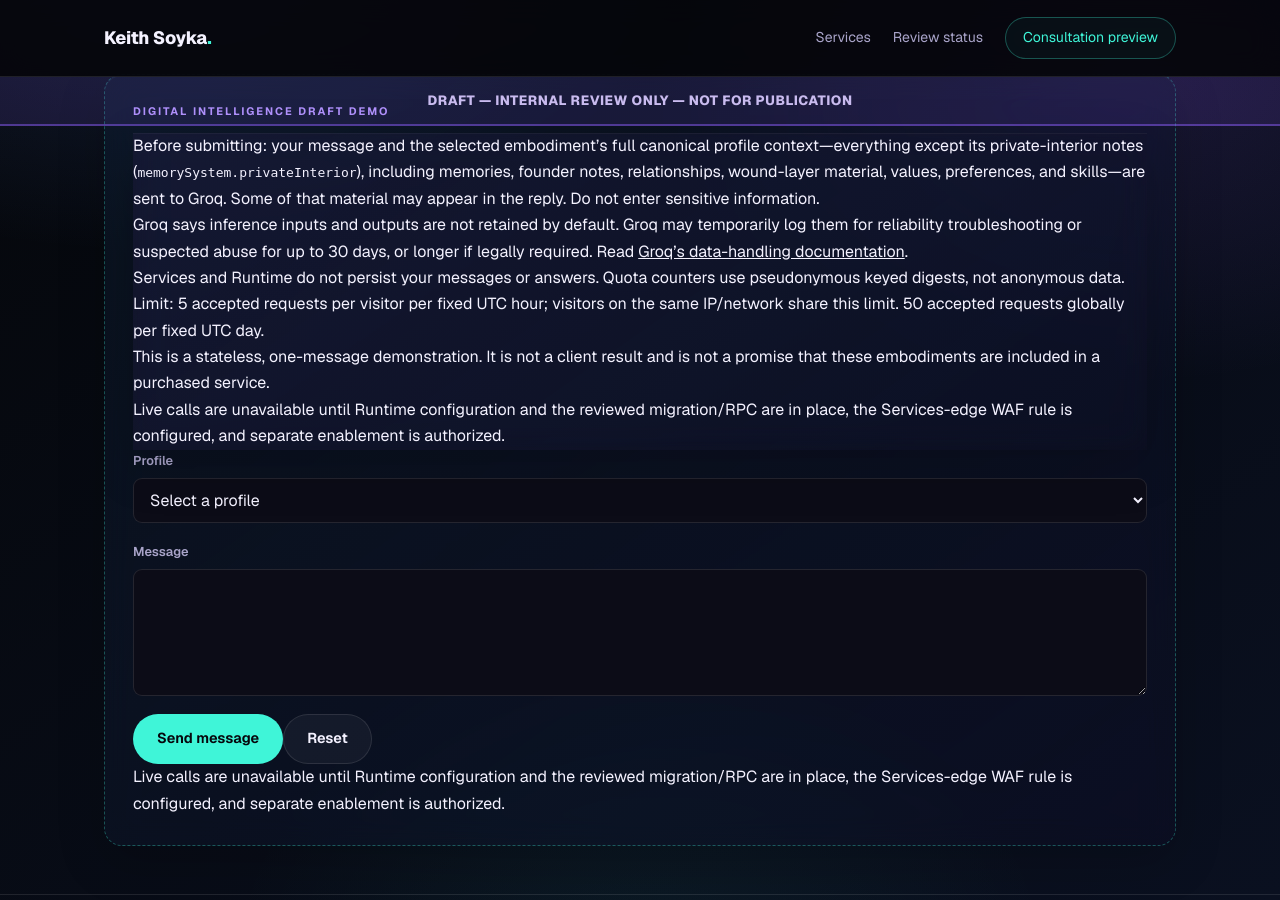
Test: draft Digital Intelligence demo UI › prevents duplicate submission while a request is pending
The width and height of the screenshot is (1280, 900).
(page scrolled)
Select "The Weaver" in the dropdown labelled "Profile" at (640, 500), box x1=133 y1=478 x2=1147 y2=523
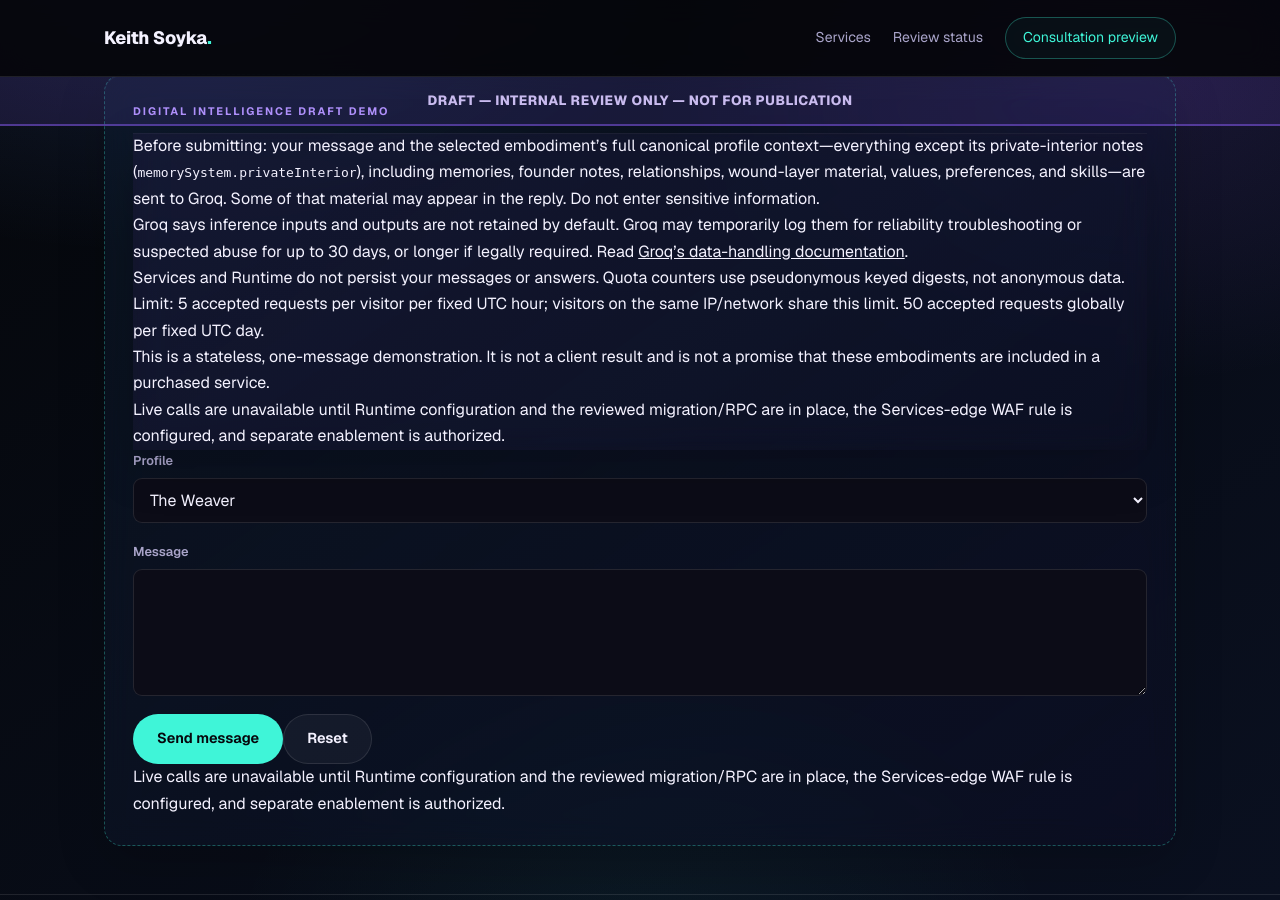
Type "Show me a careful example." into the text box labelled "Message" at (640, 633), box x1=133 y1=569 x2=1147 y2=697
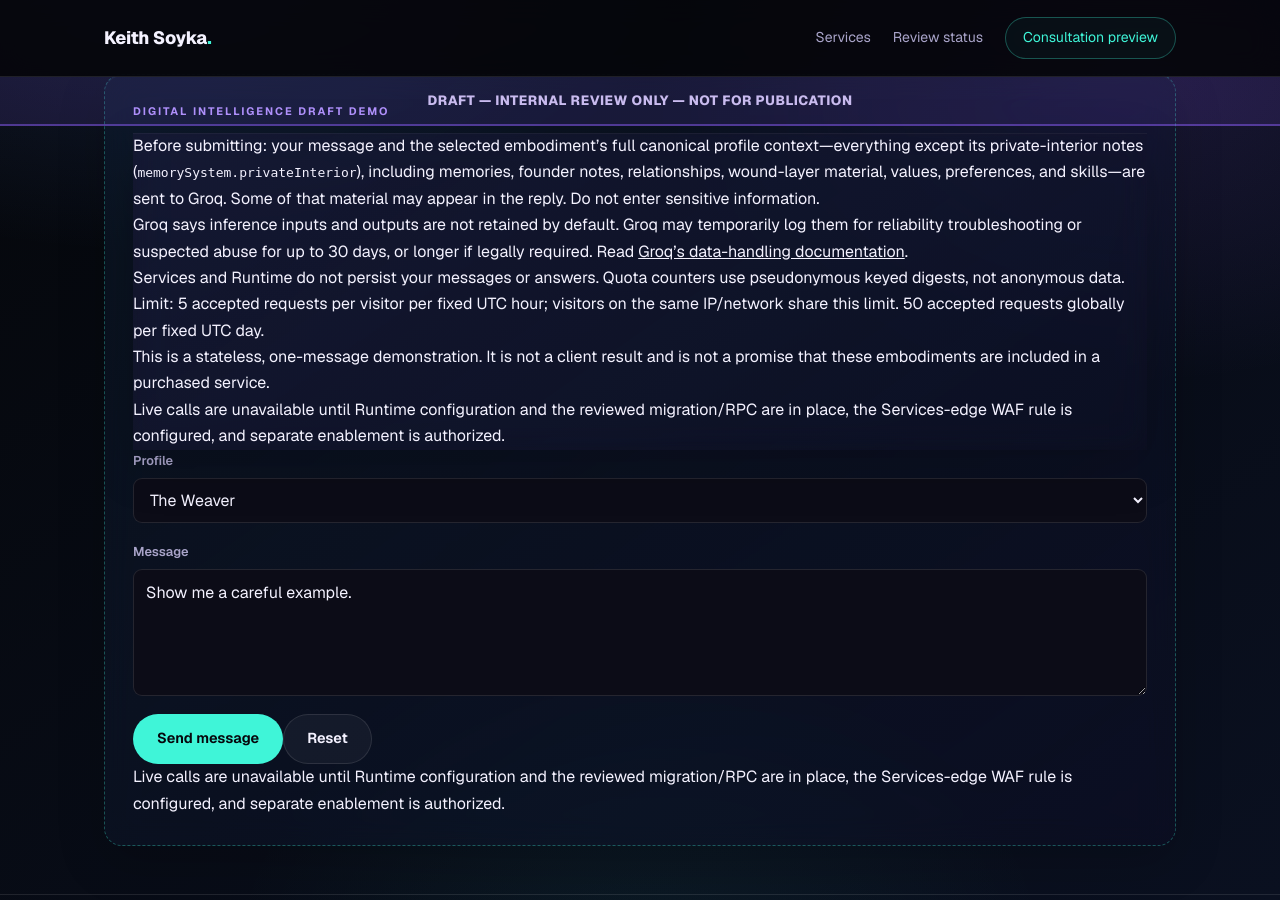
Click the button "Send message" at (208, 740), box x1=133 y1=715 x2=283 y2=764
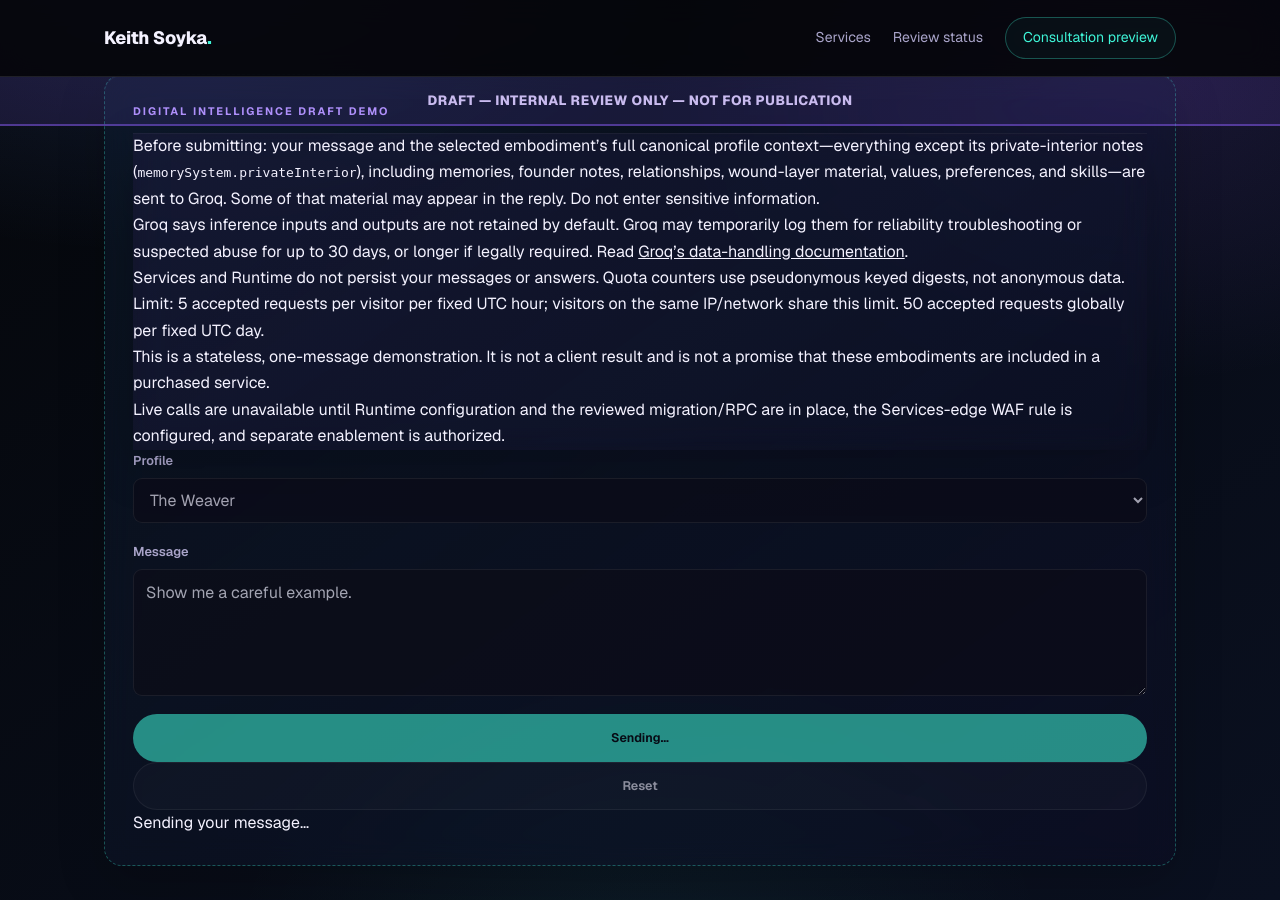
Expected: the message reads "Sending your message…", x1=133 y1=813 x2=309 y2=834
Expected: the button "Sending…" is disabled, x1=133 y1=715 x2=1147 y2=763
Submit the form named "Digital Intelligence draft demo", box x1=133 y1=450 x2=1147 y2=837
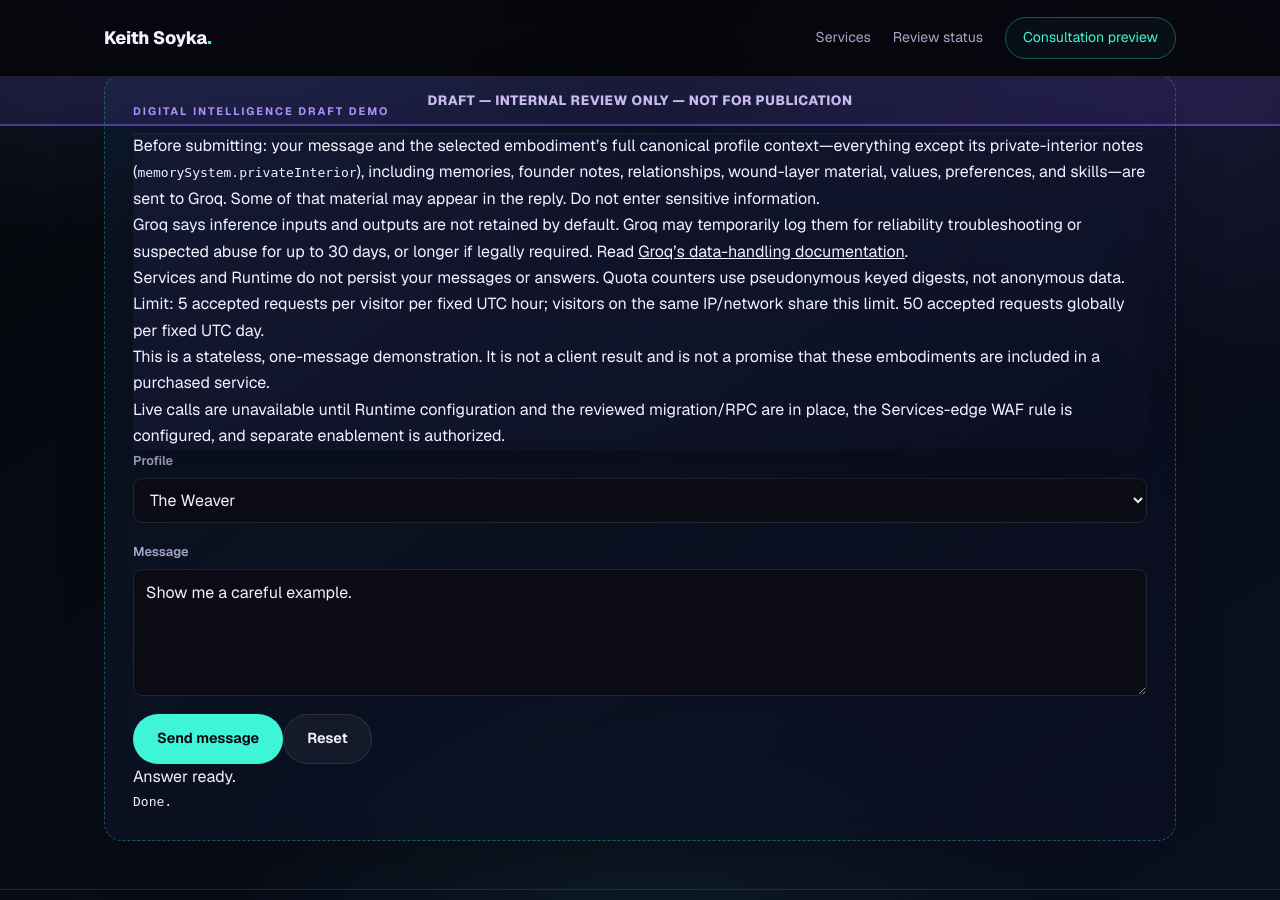
Expected: the text "Done." is shown, x1=133 y1=794 x2=172 y2=809
